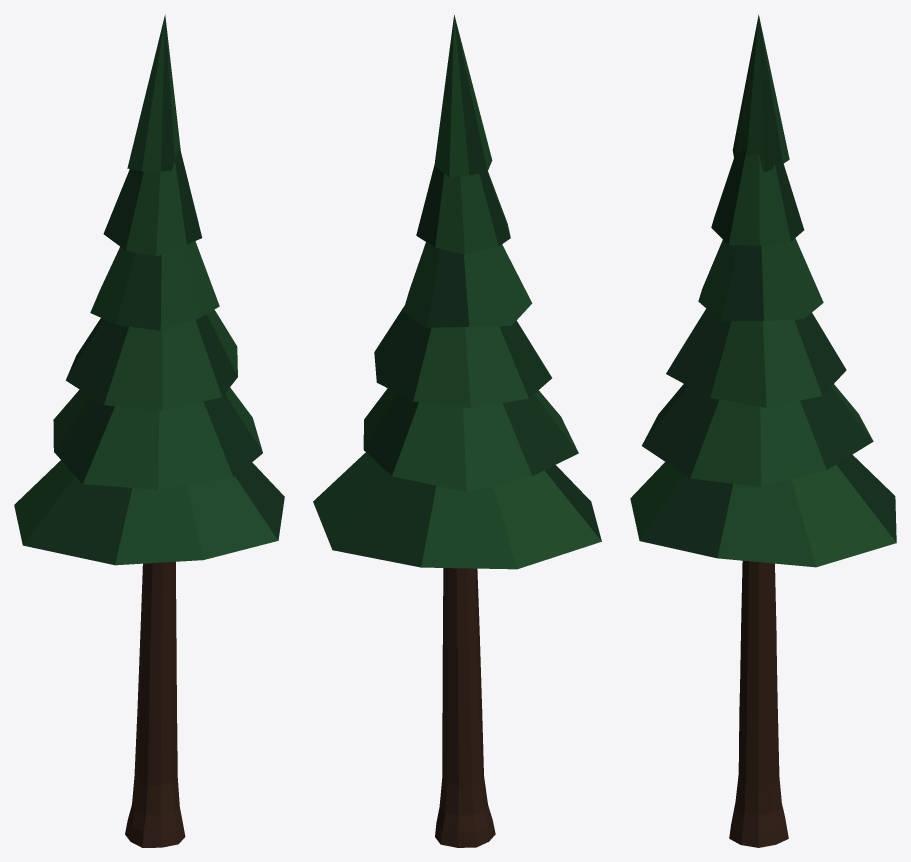
The model's file is GiantFir_A.obj.
3 renders of one model, left to right at view 1: azimuth 30°, elevation 25°; view 2: azimuth 150°, elevation 25°; view 3: azimuth 270°, elevation 25°, orthographic.
Visible parts, largest first — view 1: GiantFir_A; view 2: GiantFir_A; view 3: GiantFir_A.
Boxes of the visible parts, left/top/right/bottom form: GiantFir_A: left=14, top=14, right=284, bottom=847; GiantFir_A: left=313, top=15, right=601, bottom=847; GiantFir_A: left=630, top=14, right=896, bottom=847.
Size of the model in its own units: 11.28 by 34.25 by 10.02.
